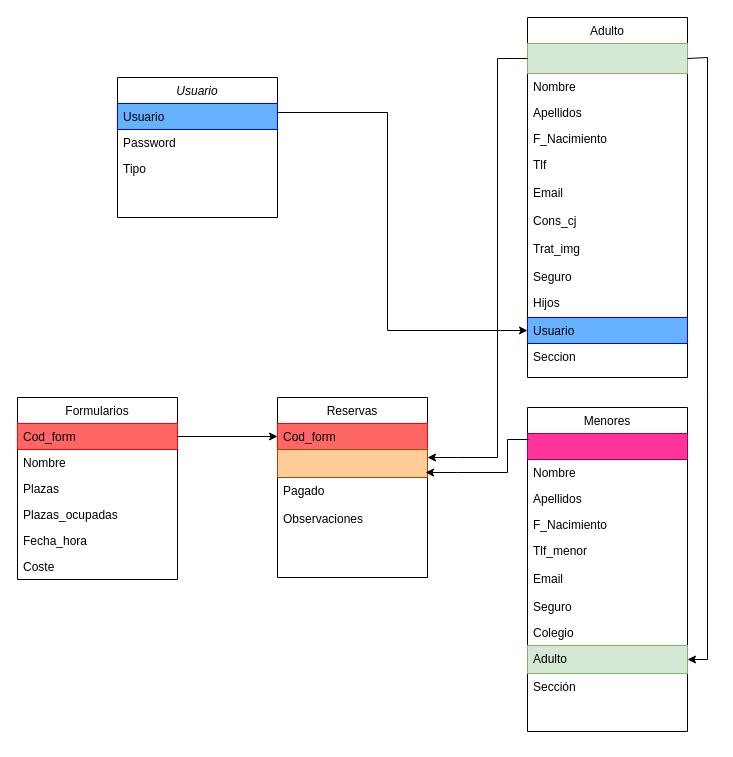
Some shapes in this 733 by 757 pixel diagram are drawn without their labels. The centre of each missing label's shape, as x and y in pixels:
"DNI_adulto" belongs at point 607,58.
"DNI_menor" belongs at point 607,446.
"DNI_participante" belongs at point 352,463.
